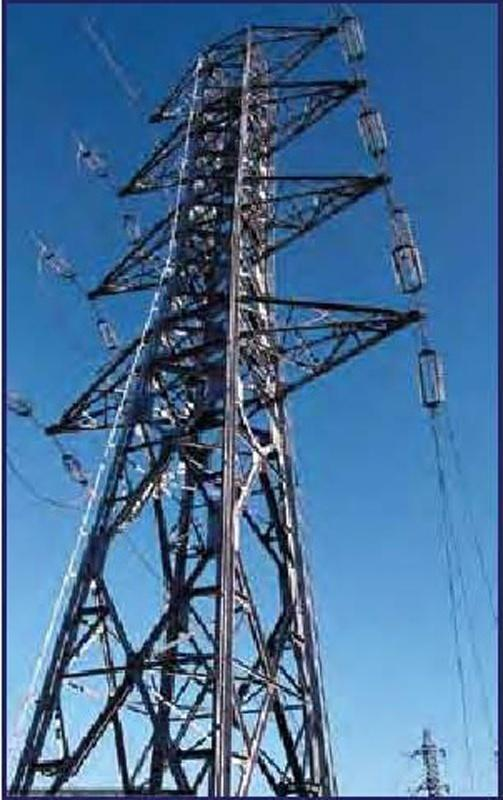power_tower: (18, 22, 451, 791)
